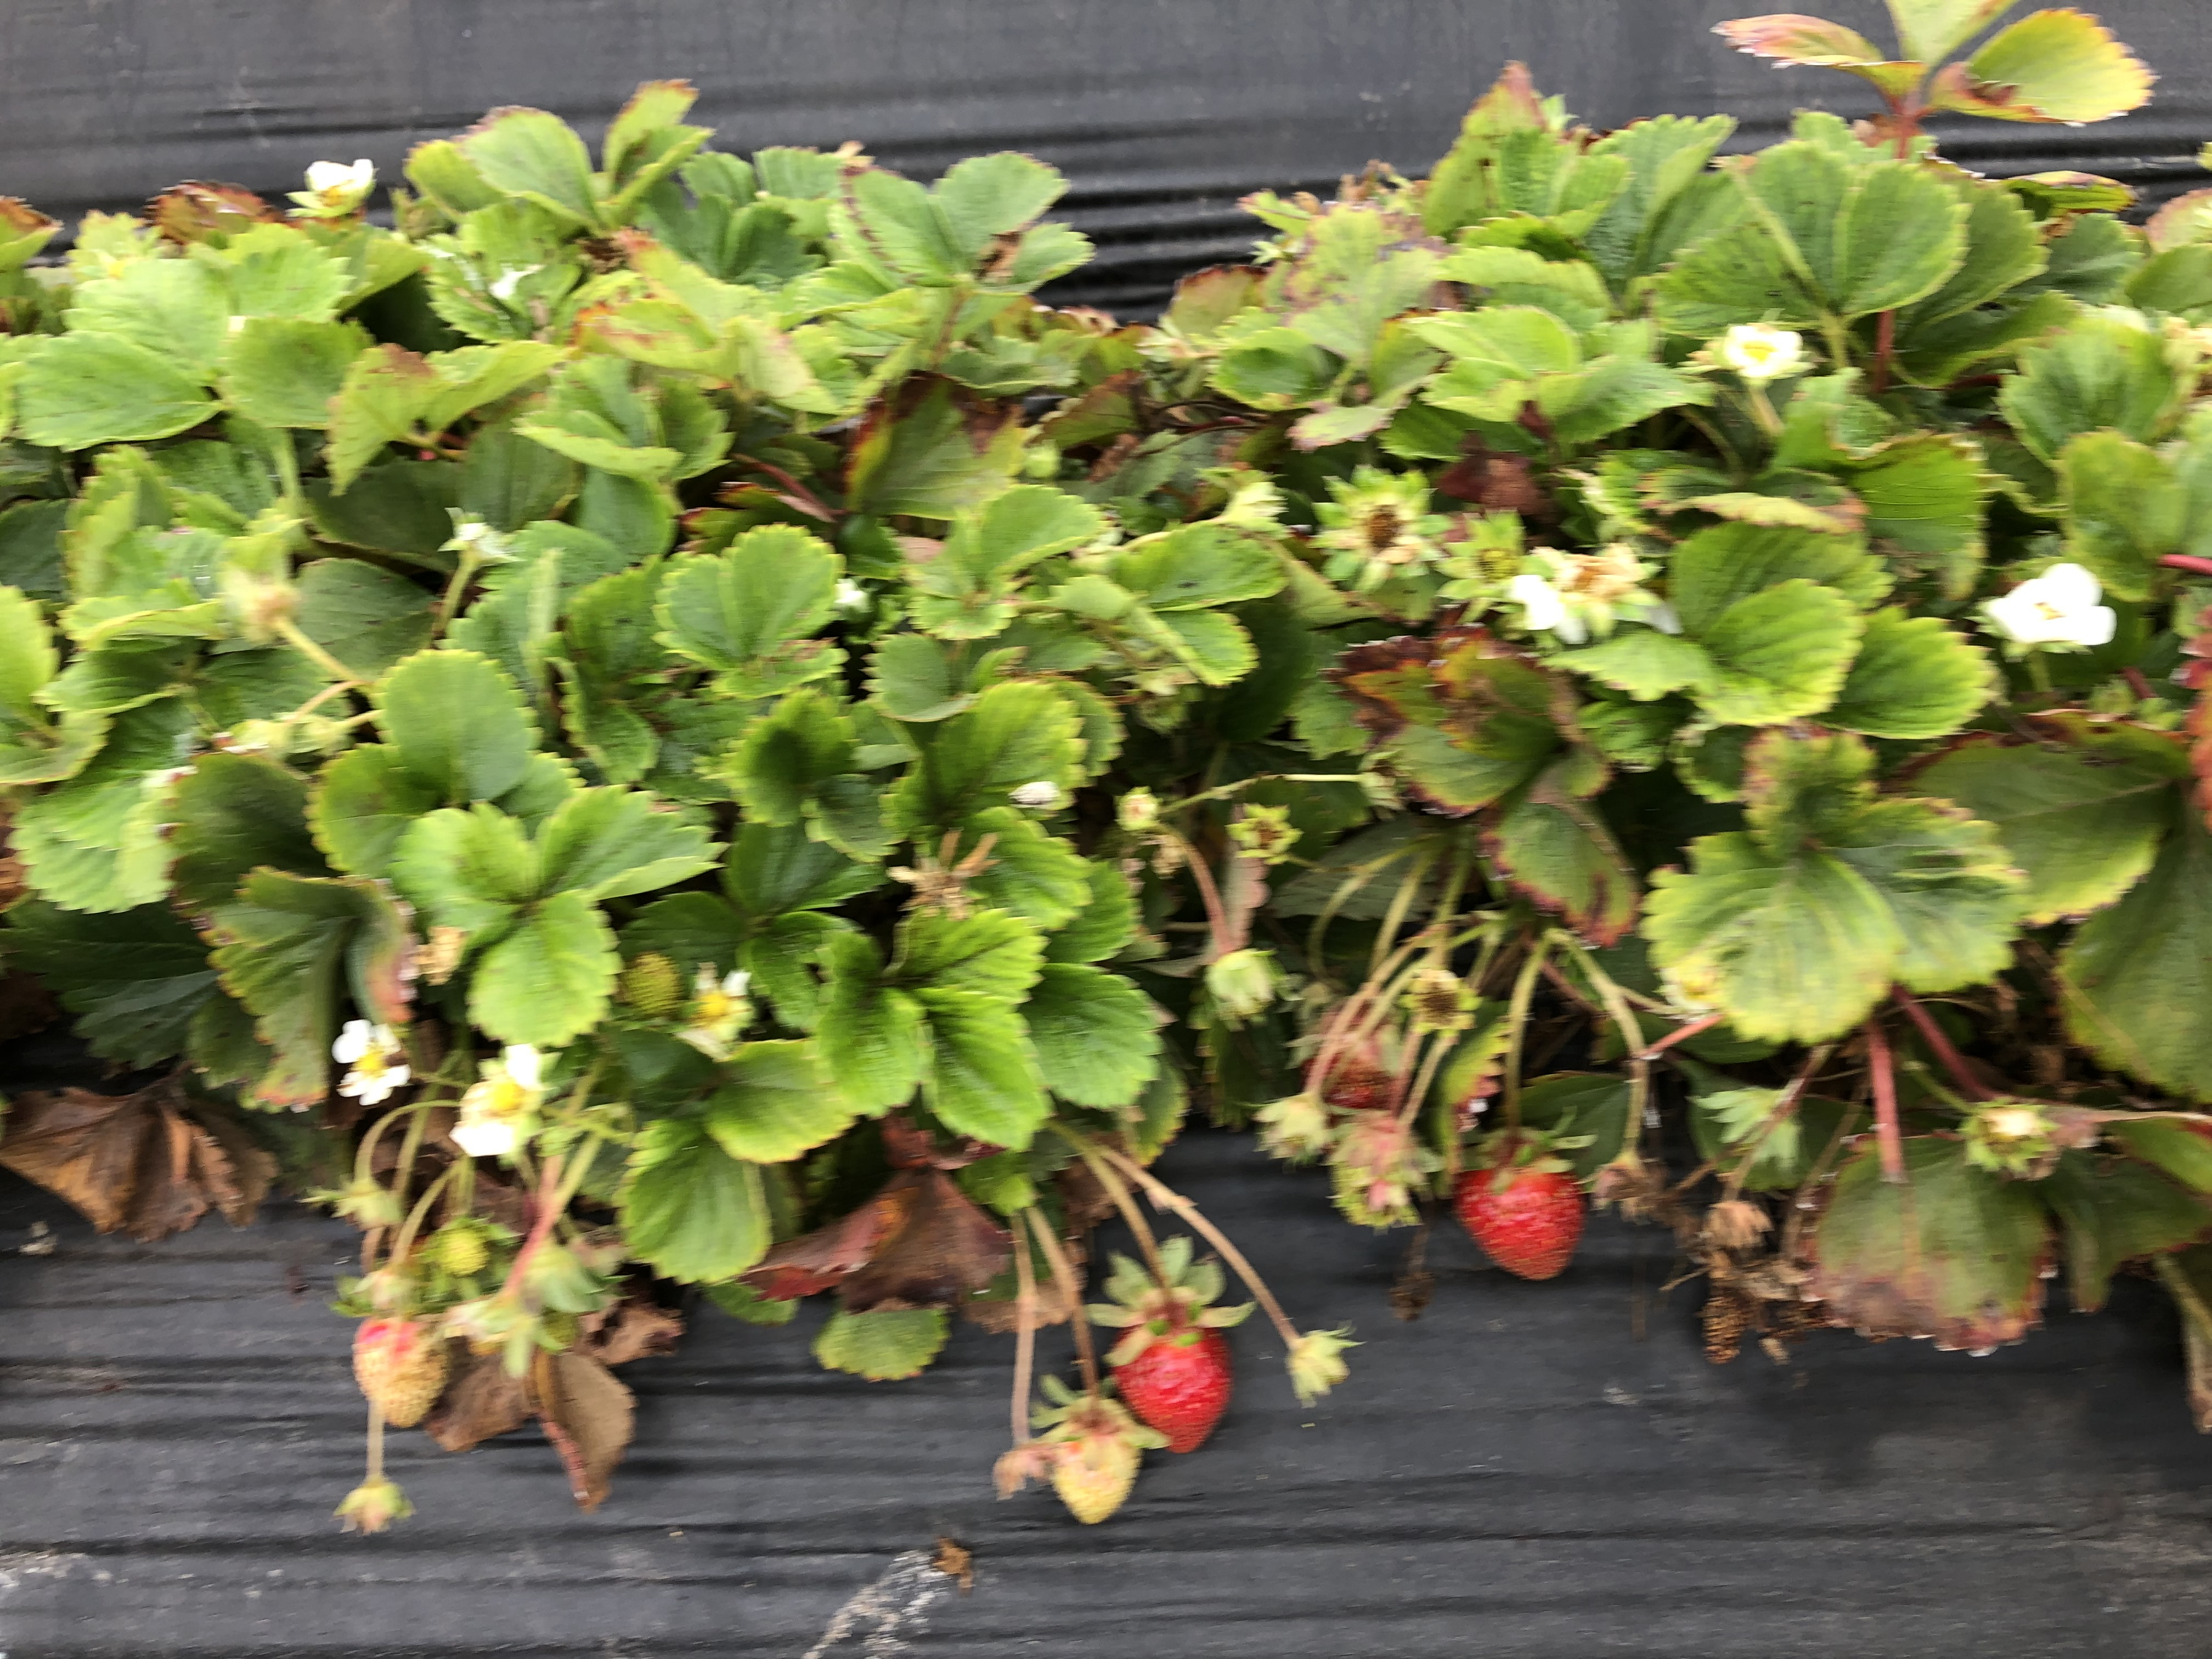ripe_strawberry: (1111, 1286, 1244, 1462), (1453, 1126, 1594, 1288)
unripe_strawberry: (347, 1305, 456, 1434), (1043, 1391, 1132, 1535)
